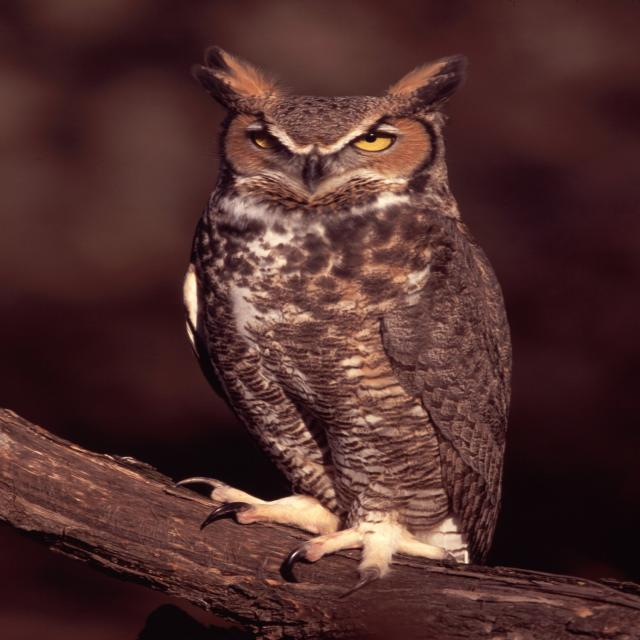Owl: (134, 32, 536, 582)
